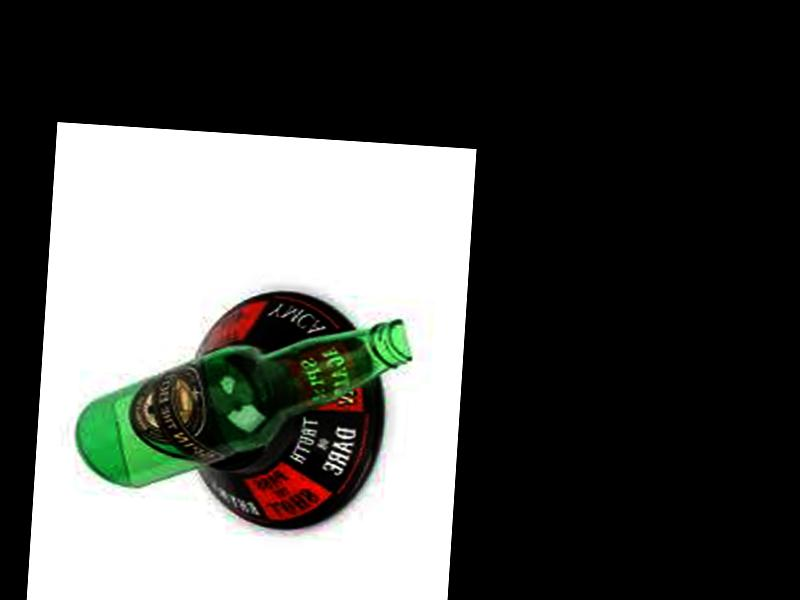Beer: (73, 301, 414, 507)
